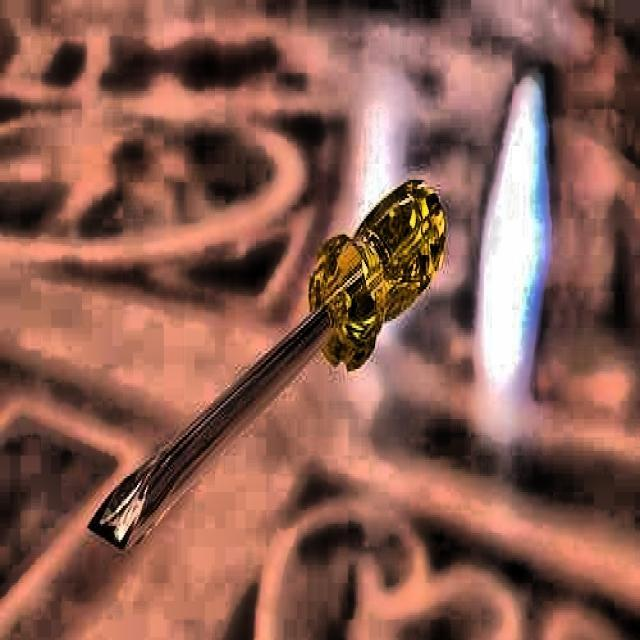screwdriver: (89, 176, 448, 553)
